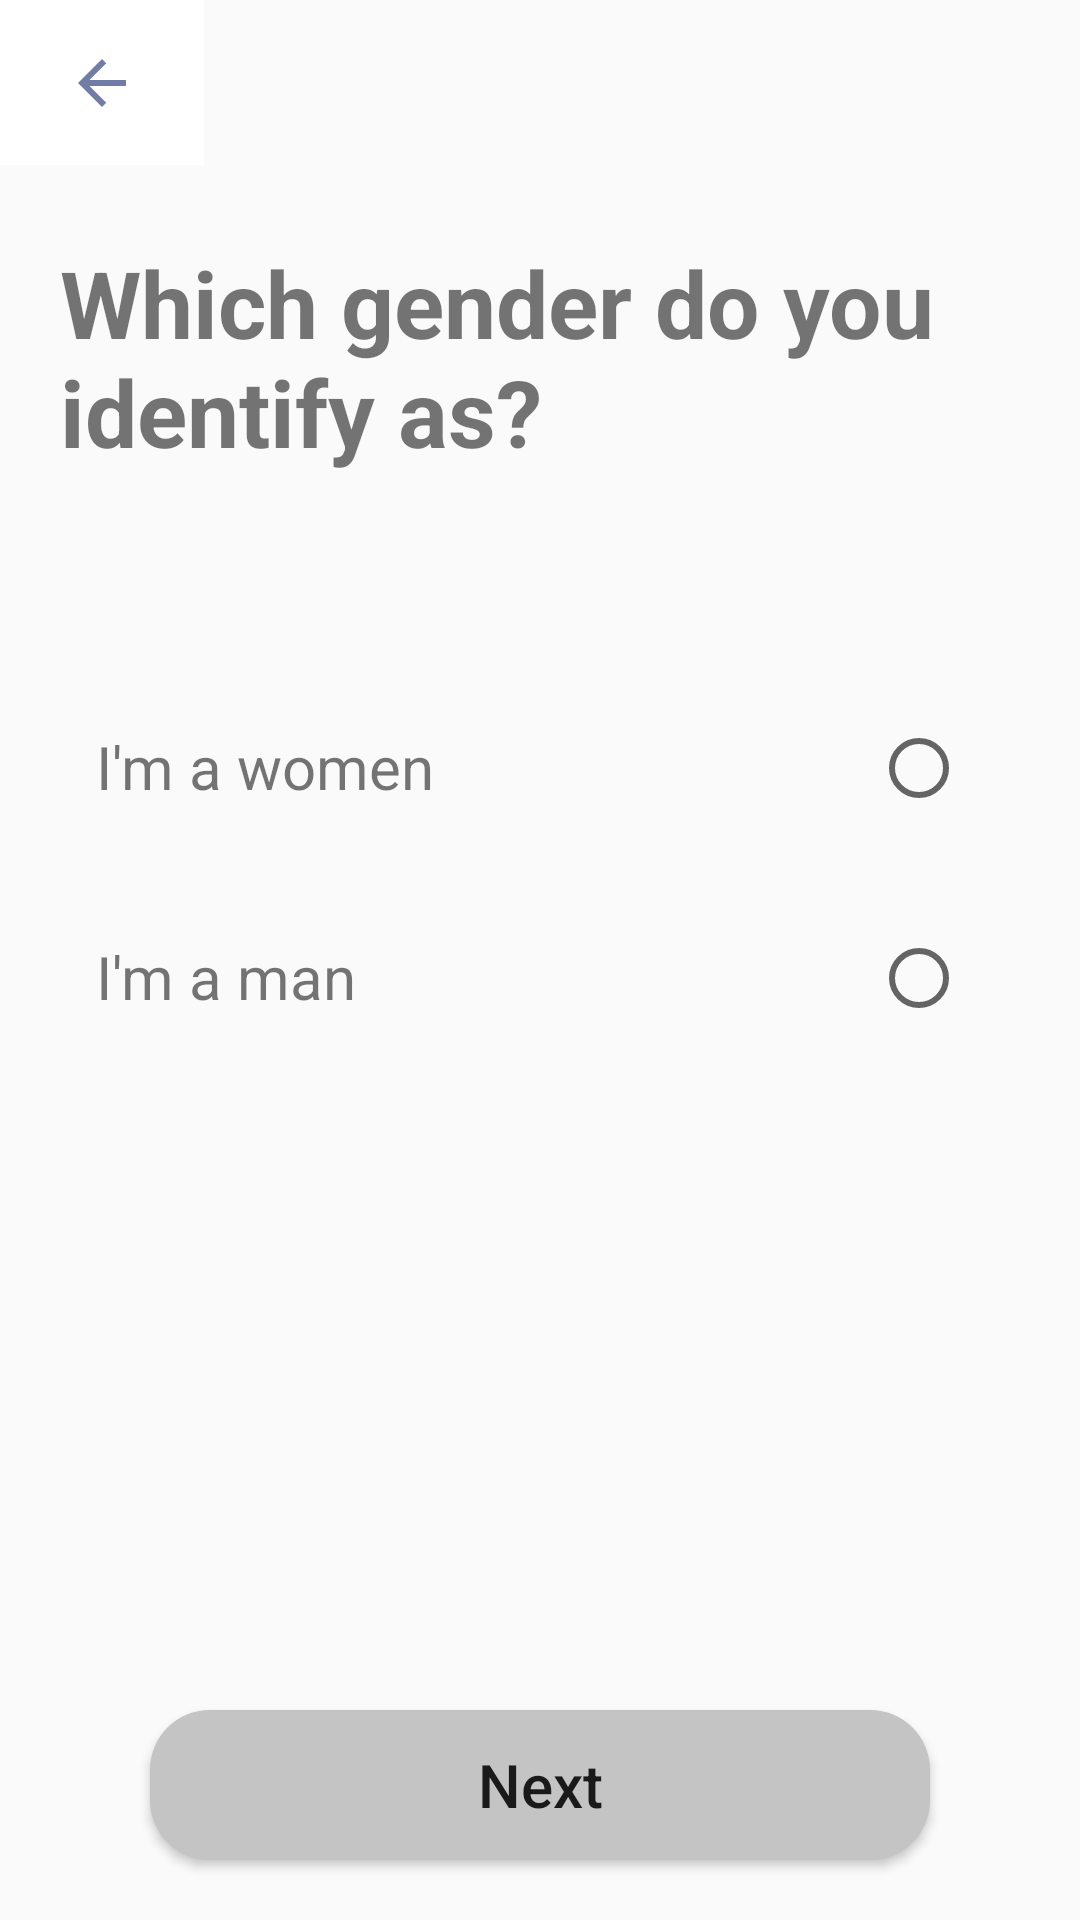

Icon click points for this 1080px×1920px phone screenshot, format point (x, y):
arrow back: point (102, 83)
